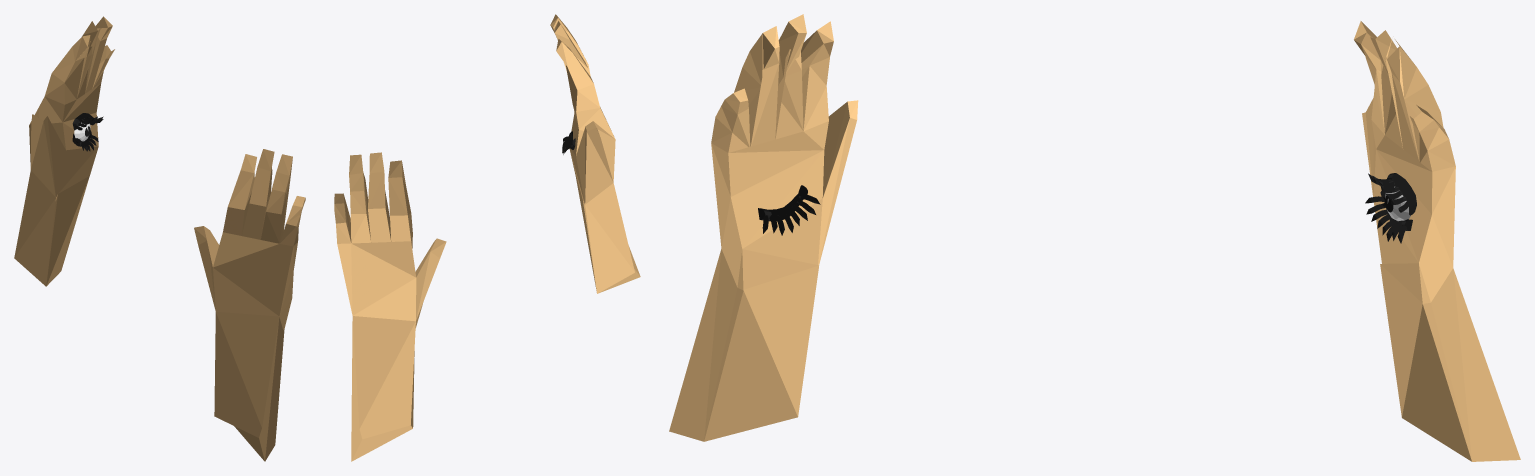
Rendered from handeyesspreadperf.glb.
The picture shows the model from 3 angles, left to right: view 1: azimuth 30°, elevation 25°; view 2: azimuth 150°, elevation 25°; view 3: azimuth 270°, elevation 25°; orthographic projection. The views are drawn at different scales.
Visible parts, largest first — view 1: Node; view 2: Node; view 3: Node.
Part boxes in pixels (<box>): Node: <box>14,16,305,461</box>; Node: <box>334,14,640,461</box>; Node: <box>669,14,1520,461</box>.
Bounding box in the file's own units: 0.3794 × 1 × 1.71.
